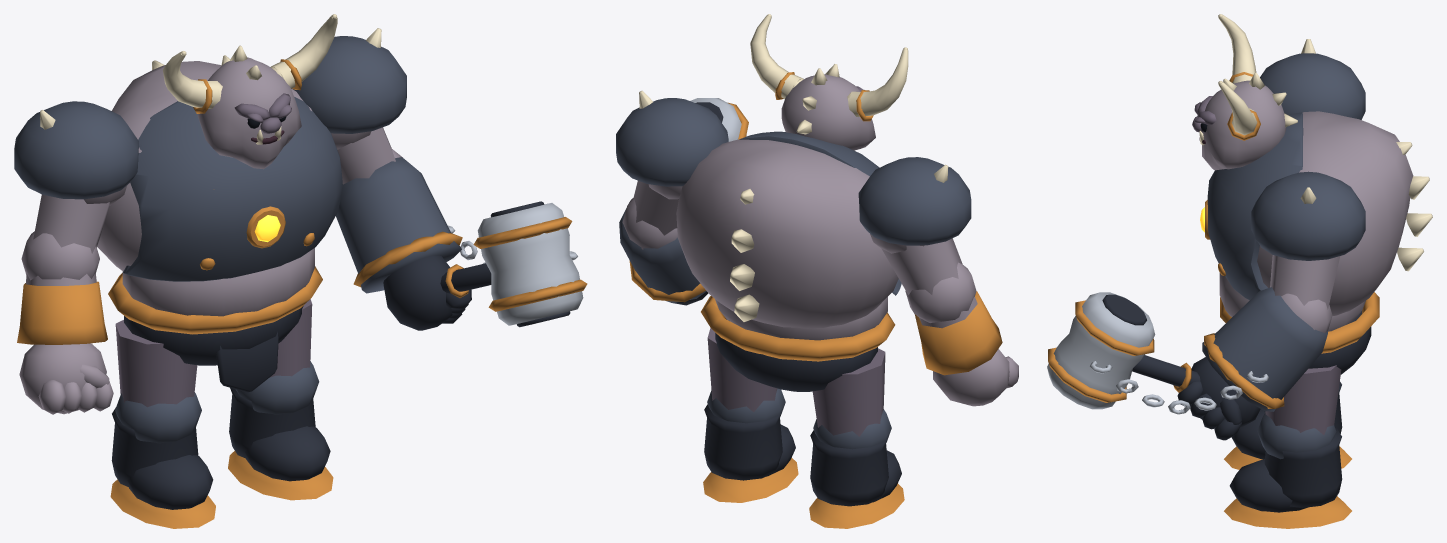
Rendered from npc_cull_obsidian.glb.
The picture shows the model from 3 angles, left to right: view 1: azimuth 30°, elevation 25°; view 2: azimuth 150°, elevation 25°; view 3: azimuth 270°, elevation 25°; orthographic projection. The views are drawn at different scales.
Visible parts, largest first — view 1: Body, ArmR, ArmL, LegL, LegR, Head; view 2: Body, ArmL, ArmR, LegL, LegR, Head; view 3: ArmR, Body, LegR, Head, ArmL, LegL.
Part boxes in pixels (x1,y1,x2,y2): Body: [97, 60, 342, 392]; ArmR: [293, 28, 587, 330]; ArmL: [14, 101, 138, 414]; LegL: [110, 320, 215, 528]; LegR: [228, 299, 333, 500]; Head: [163, 14, 337, 169]; Body: [676, 131, 901, 391]; ArmL: [858, 157, 1018, 406]; ArmR: [616, 90, 748, 305]; LegL: [809, 348, 904, 528]; LegR: [703, 328, 798, 502]; Head: [750, 14, 908, 150]; ArmR: [1047, 171, 1365, 440]; Body: [1200, 111, 1432, 374]; LegR: [1224, 365, 1351, 528]; Head: [1192, 14, 1297, 170]; ArmL: [1260, 39, 1365, 119]; LegL: [1224, 382, 1351, 469].
Bounding box in the file's own units: 1.65 × 1.65 × 1.32.
